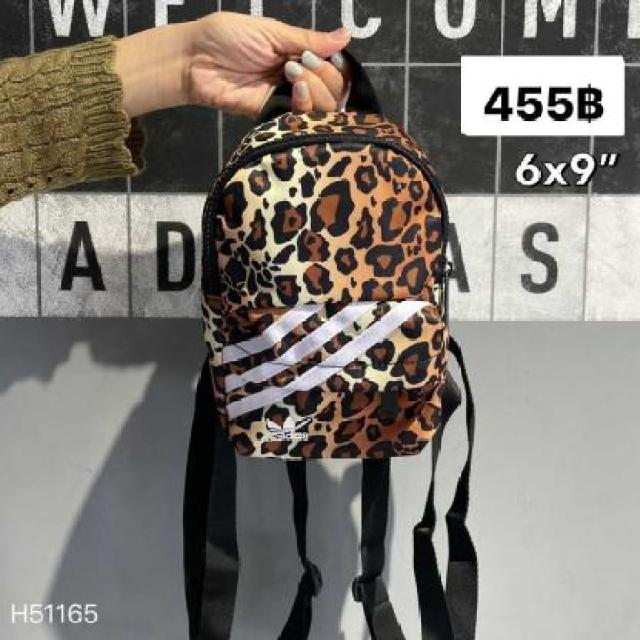Bag: (163, 52, 537, 546)
